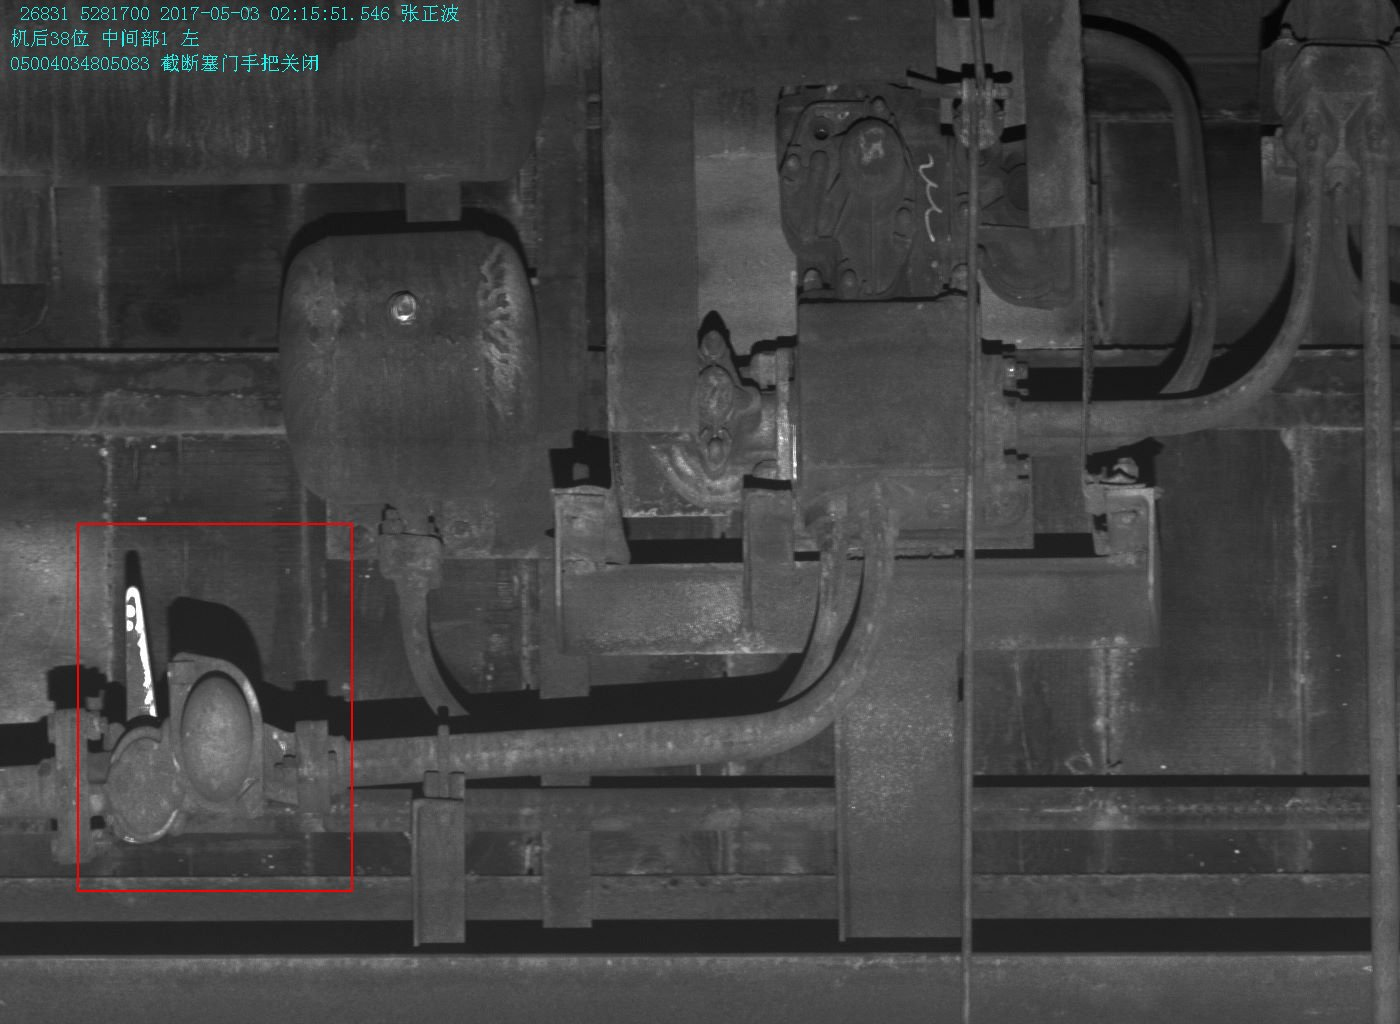truncated plug door handle: (102, 584, 182, 849)
